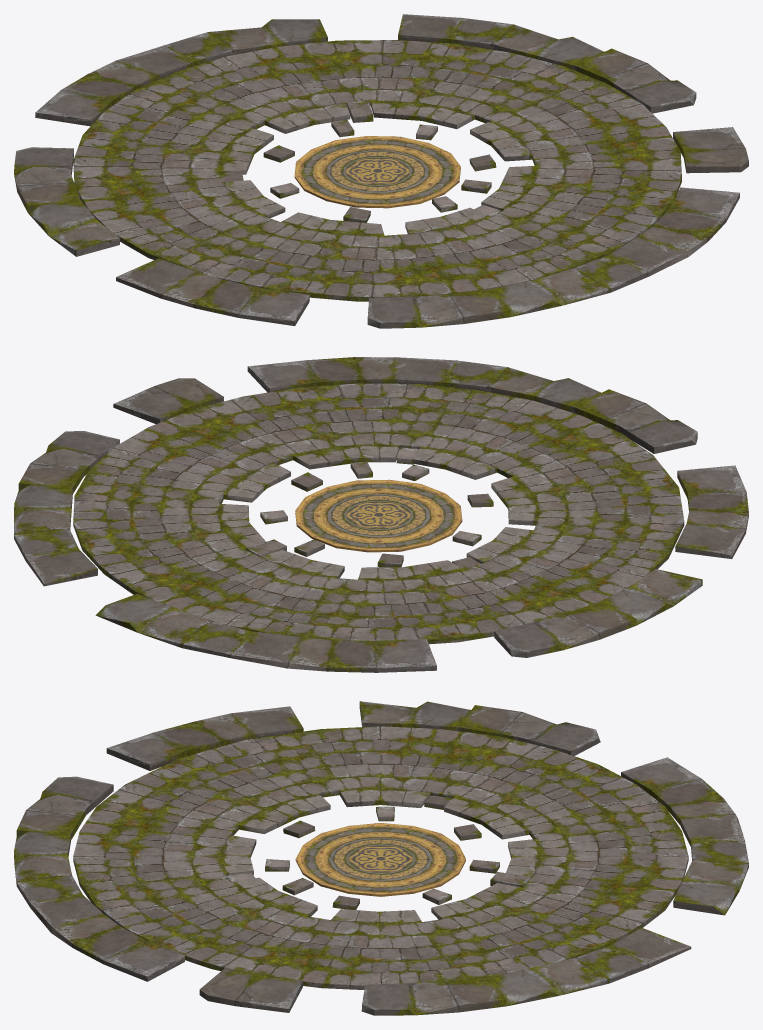
File: b_zx_bosstai01_01_lod1.FBX
The picture shows the model from 3 angles, top to bottom: view 1: azimuth 30°, elevation 25°; view 2: azimuth 150°, elevation 25°; view 3: azimuth 270°, elevation 25°; orthographic projection.
Parts seen in each view (by area): view 1: b_zx_bosstai01_01_lod1; view 2: b_zx_bosstai01_01_lod1; view 3: b_zx_bosstai01_01_lod1.
Boxes of the visible parts, bbox=[...] form: b_zx_bosstai01_01_lod1: bbox=[14, 14, 748, 328]; b_zx_bosstai01_01_lod1: bbox=[14, 357, 748, 672]; b_zx_bosstai01_01_lod1: bbox=[14, 701, 748, 1015].
Size of the model in its own units: 20.41 by 0.3292 by 20.57.
